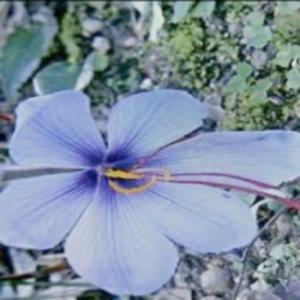Saffron: (1, 91, 300, 291)
